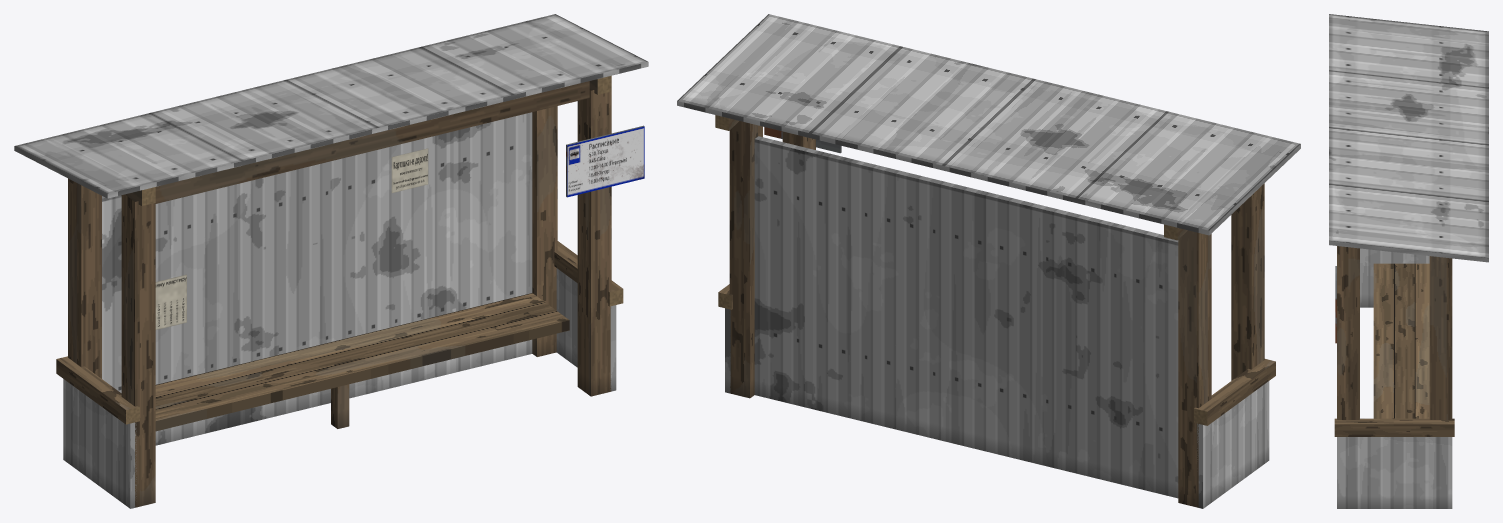
Rendered from SM_BusStop.fbx.
The picture shows the model from 3 angles, left to right: view 1: azimuth 30°, elevation 25°; view 2: azimuth 150°, elevation 25°; view 3: azimuth 270°, elevation 25°; orthographic projection. The views are drawn at different scales.
Visible parts, largest first — view 1: SM_BusStop; view 2: SM_BusStop; view 3: SM_BusStop.
Part boxes in pixels (x1,y1,x2,y2): SM_BusStop: (14,14,648,508); SM_BusStop: (677,14,1300,508); SM_BusStop: (1329,14,1488,508).
Size of what is drawn, in the model's own units: 470 by 270 by 140.
Materials: 1 (1 with a texture image).
